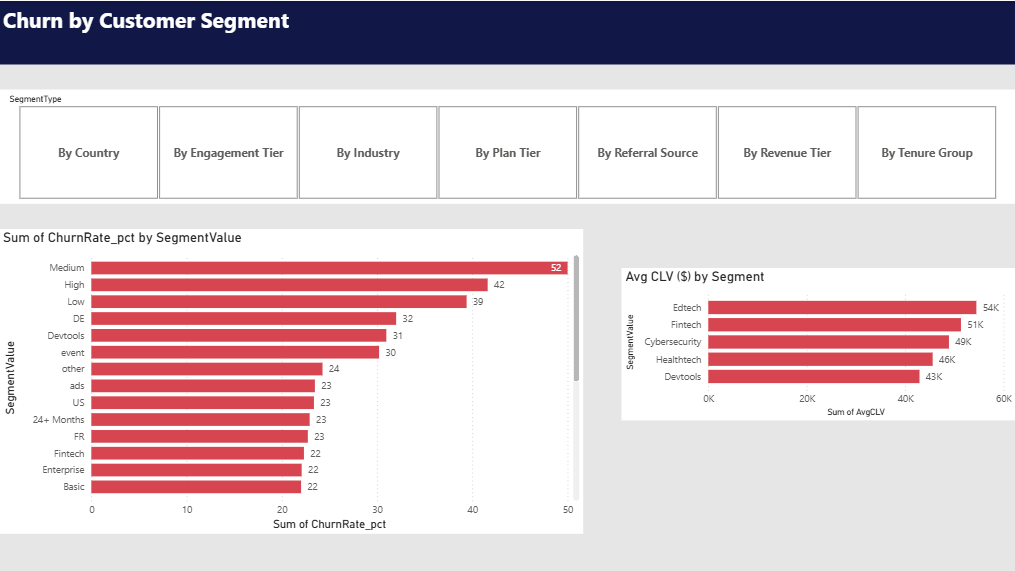

The page's visual inventory and layout, read from the dashboard file:
{"tool":"powerbi","page":{"name":"Segment Analysis","canvas":[1280,720],"ordinal":1},"visuals":[{"type":"textbox","box":[0,0,1280,80],"z":0},{"type":"slicer","fields":{"Values":["segment_summary.SegmentType"]},"box":[0,112,1280,144],"z":1000},{"type":"clusteredBarChart","fields":{"Category":["segment_summary.SegmentValue"],"Y":["Sum(segment_summary.ChurnRate_pct)"]},"box":[0,288,736,384],"z":2000},{"type":"clusteredBarChart","title":"Avg CLV ($) by Segment","fields":{"Category":["segment_summary.SegmentValue"],"Y":["Sum(segment_summary.AvgCLV)"]},"box":[784,336,496,192],"z":4000}]}

Visuals, with their boxes in screenshot pixels (x1, y1, x2, y2), scaled from the page's 1280x720 canvas onto the 1015x571 screenshot:
textbox: select_region(0, 0, 1014, 63)
slicer - segment_summary.SegmentType: select_region(0, 89, 1014, 203)
clusteredBarChart - segment_summary.SegmentValue x Sum(segment_summary.ChurnRate_pct): select_region(0, 228, 584, 533)
"Avg CLV ($) by Segment" clusteredBarChart: select_region(622, 266, 1014, 419)
